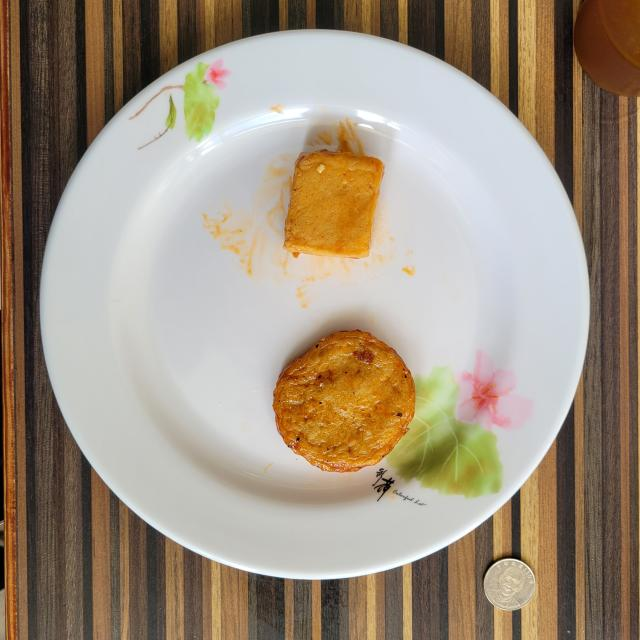coin: (484, 559, 535, 610)
creamy tofu: (284, 150, 384, 258)
fish cake: (272, 330, 415, 472)
